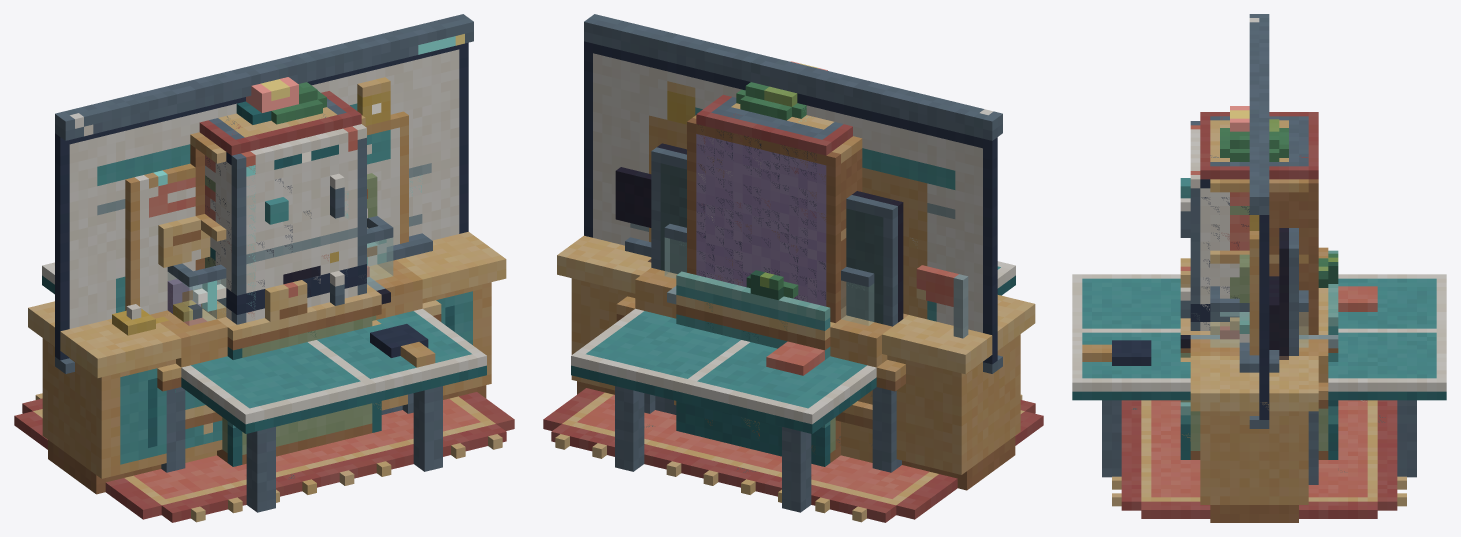
File: office-kit.glb
3 renders of one model, left to right at view 1: azimuth 30°, elevation 25°; view 2: azimuth 150°, elevation 25°; view 3: azimuth 270°, elevation 25°, orthographic. The views are drawn at different scales.
Parts seen in each view (by area): view 1: projector_screen, reception_desk, ping_pong_table, rug_rect, fridge, kanban_board, counter_corner, server_rack, vending_machine, big_desk_max, foosball_table, fish_tank (+6 smaller); view 2: projector_screen, reception_desk, ping_pong_table, arcade_cabinet, rug_rect, tv_console, bookshelf, kanban_board, desk_end_l, big_desk_max, sofa_corner, foosball_table (+7 smaller); view 3: ping_pong_table, reception_desk, rug_rect, bookshelf, projector_screen, fridge, vending_machine, server_rack, tv_console, foosball_table, fish_tank, kanban_board (+8 smaller).
Part boxes in pixels (x1,y1,x2,y2): projector_screen: [55, 14, 473, 373]; reception_desk: [28, 175, 506, 494]; ping_pong_table: [42, 262, 486, 512]; rug_rect: [14, 392, 514, 522]; fridge: [205, 149, 357, 322]; kanban_board: [125, 77, 408, 314]; counter_corner: [217, 284, 381, 464]; server_rack: [206, 98, 366, 324]; vending_machine: [199, 91, 361, 314]; big_desk_max: [155, 300, 441, 472]; foosball_table: [150, 260, 422, 414]; fish_tank: [167, 216, 393, 325]; projector_screen: [584, 14, 1002, 373]; reception_desk: [557, 167, 1035, 490]; ping_pong_table: [571, 261, 1015, 512]; arcade_cabinet: [696, 134, 826, 306]; rug_rect: [543, 388, 1043, 522]; tv_console: [651, 143, 903, 326]; bookshelf: [687, 115, 862, 458]; kanban_board: [649, 81, 927, 319]; desk_end_l: [676, 271, 830, 359]; big_desk_max: [616, 259, 905, 472]; sofa_corner: [676, 323, 840, 466]; foosball_table: [635, 268, 908, 414]; ping_pong_table: [1072, 274, 1446, 477]; reception_desk: [1190, 276, 1318, 522]; rug_rect: [1112, 400, 1406, 518]; bookshelf: [1210, 179, 1318, 334]; projector_screen: [1249, 14, 1269, 428]; fridge: [1180, 178, 1239, 330]; vending_machine: [1190, 112, 1318, 239]; server_rack: [1190, 116, 1308, 330]; tv_console: [1279, 228, 1298, 355]; foosball_table: [1180, 247, 1338, 382]; fish_tank: [1210, 286, 1308, 347]; kanban_board: [1239, 215, 1259, 355].
Size of the model in its own units: 2.75 by 2.31 by 2.38.
